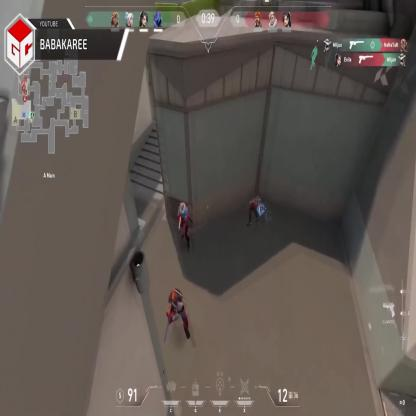enemy: (166, 286, 190, 340), (177, 203, 191, 251)
enemy_head: (171, 290, 177, 301), (180, 202, 184, 210)
